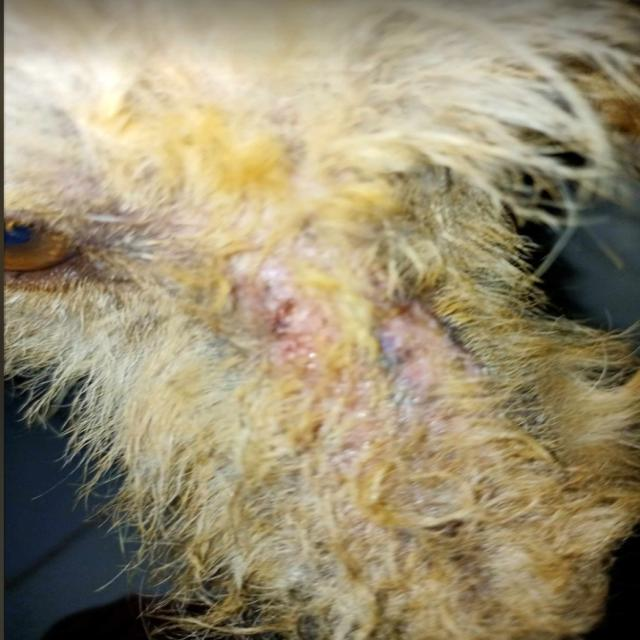demodicosis: (191, 239, 476, 416)
